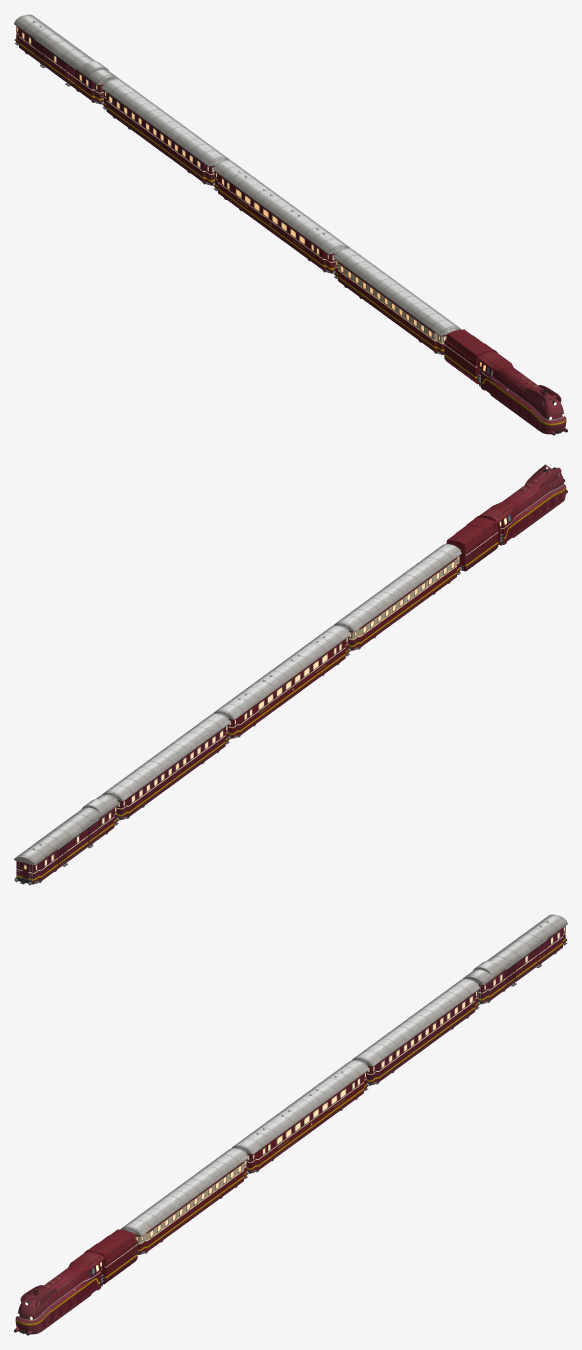
The model's file is chrono-express-train.glb.
The picture shows the model from 3 angles, top to bottom: view 1: azimuth 30°, elevation 25°; view 2: azimuth 150°, elevation 25°; view 3: azimuth 330°, elevation 25°; orthographic projection.
Parts seen in each view (by area): view 1: Mitropa_mesh, Wagon2_mesh, Wagon1_mesh, DRB0110_mesh, Baggage_mesh, Tender_mesh; view 2: Mitropa_mesh, Wagon2_mesh, Wagon1_mesh, Baggage_mesh, DRB0110_mesh, Tender_mesh; view 3: Mitropa_mesh, Wagon2_mesh, Wagon1_mesh, DRB0110_mesh, Baggage_mesh, Tender_mesh.
Part boxes in pixels (bbox=[...]): Mitropa_mesh: bbox=[213, 160, 350, 274]; Wagon2_mesh: bbox=[102, 78, 230, 186]; Wagon1_mesh: bbox=[333, 248, 461, 354]; DRB0110_mesh: bbox=[477, 351, 567, 435]; Baggage_mesh: bbox=[14, 14, 118, 104]; Tender_mesh: bbox=[444, 329, 496, 384]; Mitropa_mesh: bbox=[213, 625, 350, 739]; Wagon2_mesh: bbox=[102, 713, 230, 820]; Wagon1_mesh: bbox=[333, 544, 461, 651]; Baggage_mesh: bbox=[14, 794, 119, 885]; DRB0110_mesh: bbox=[478, 464, 567, 545]; Tender_mesh: bbox=[446, 516, 498, 571]; Mitropa_mesh: bbox=[231, 1060, 368, 1174]; Wagon2_mesh: bbox=[351, 978, 480, 1086]; Wagon1_mesh: bbox=[120, 1148, 248, 1254]; DRB0110_mesh: bbox=[14, 1251, 104, 1335]; Baggage_mesh: bbox=[463, 914, 567, 1004]; Tender_mesh: bbox=[85, 1229, 137, 1284].
Size of the model in its own units: 336 by 461 by 12554.
Materials: 6 (6 with a texture image).
